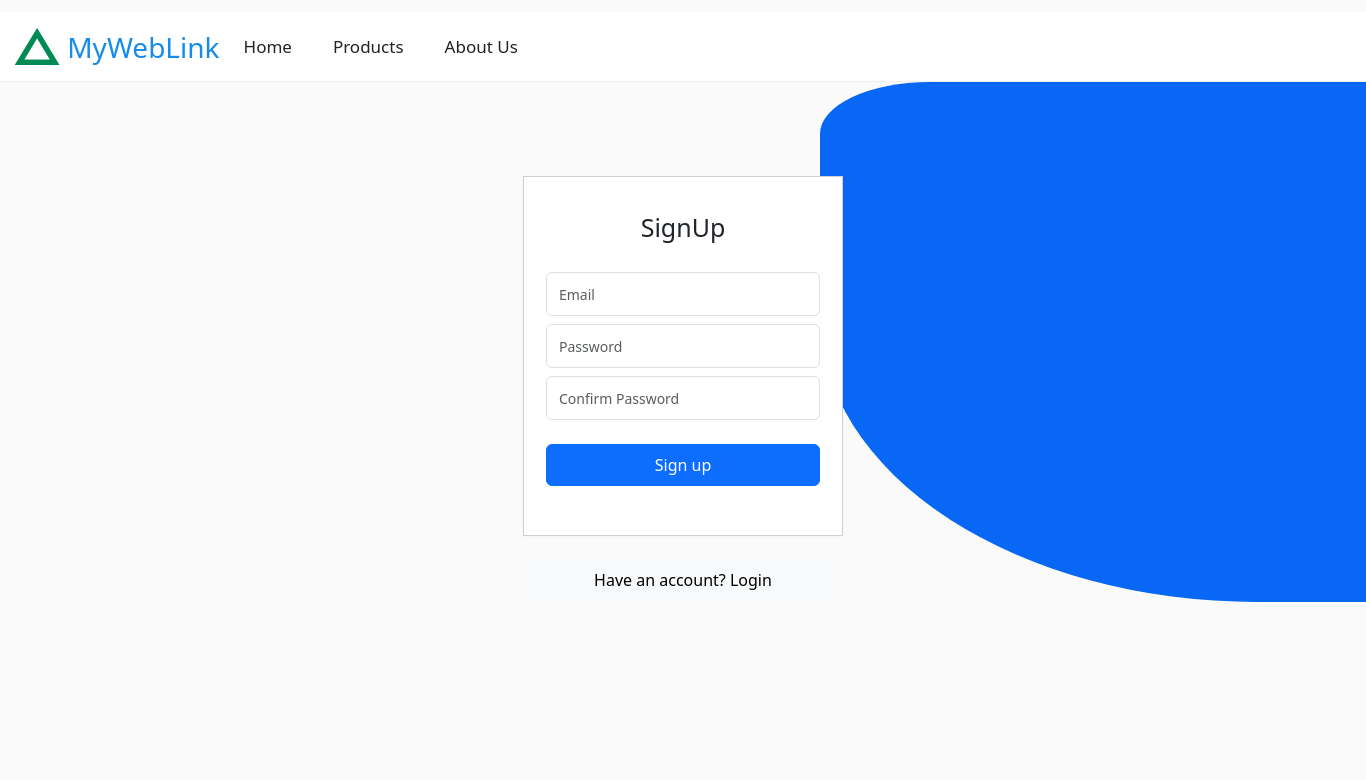
Test case: Signup Component › shows error when passwords do not match
Step 1. Type "test@gmail.com" into the field with placeholder "Email" → x=683, y=294, box [546, 272, 820, 316]
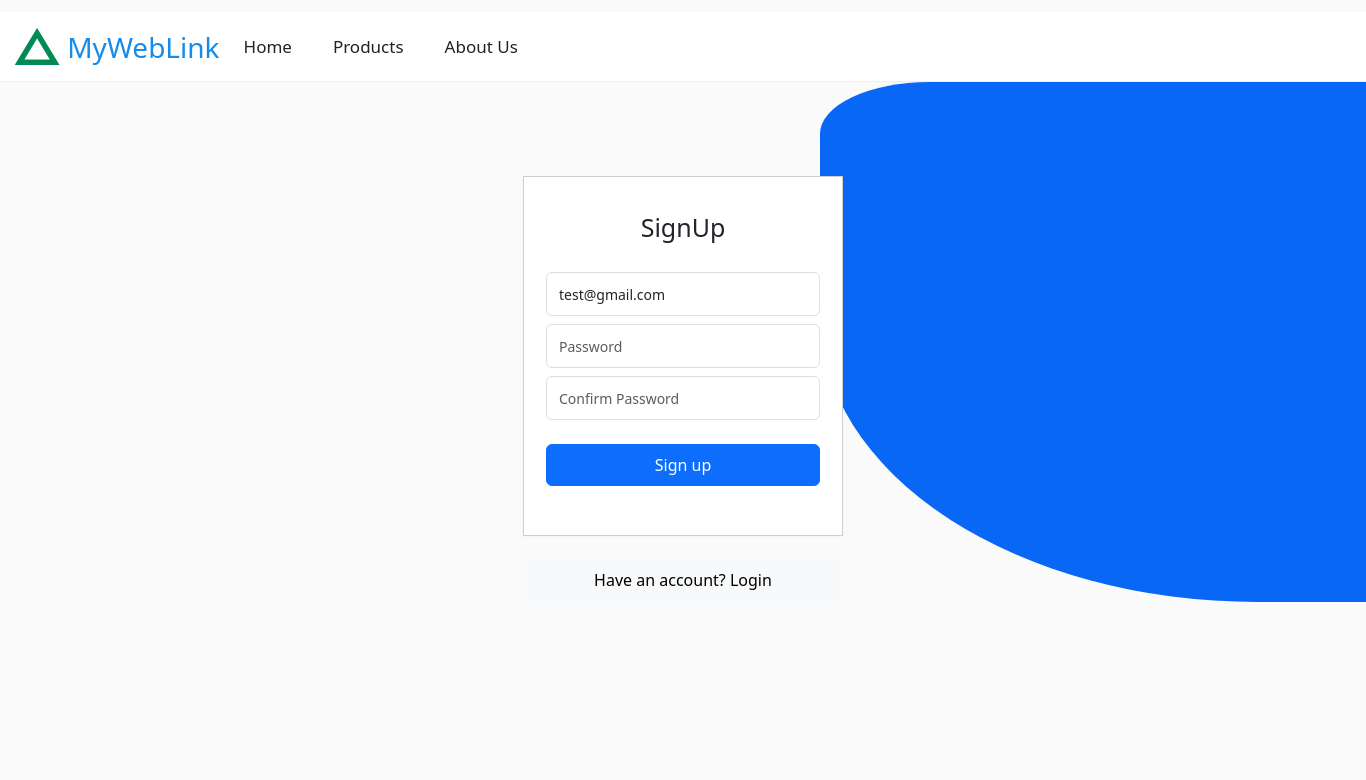
Step 2. Type "password123" into the password field with placeholder "Password" → x=683, y=346, box [546, 324, 820, 368]
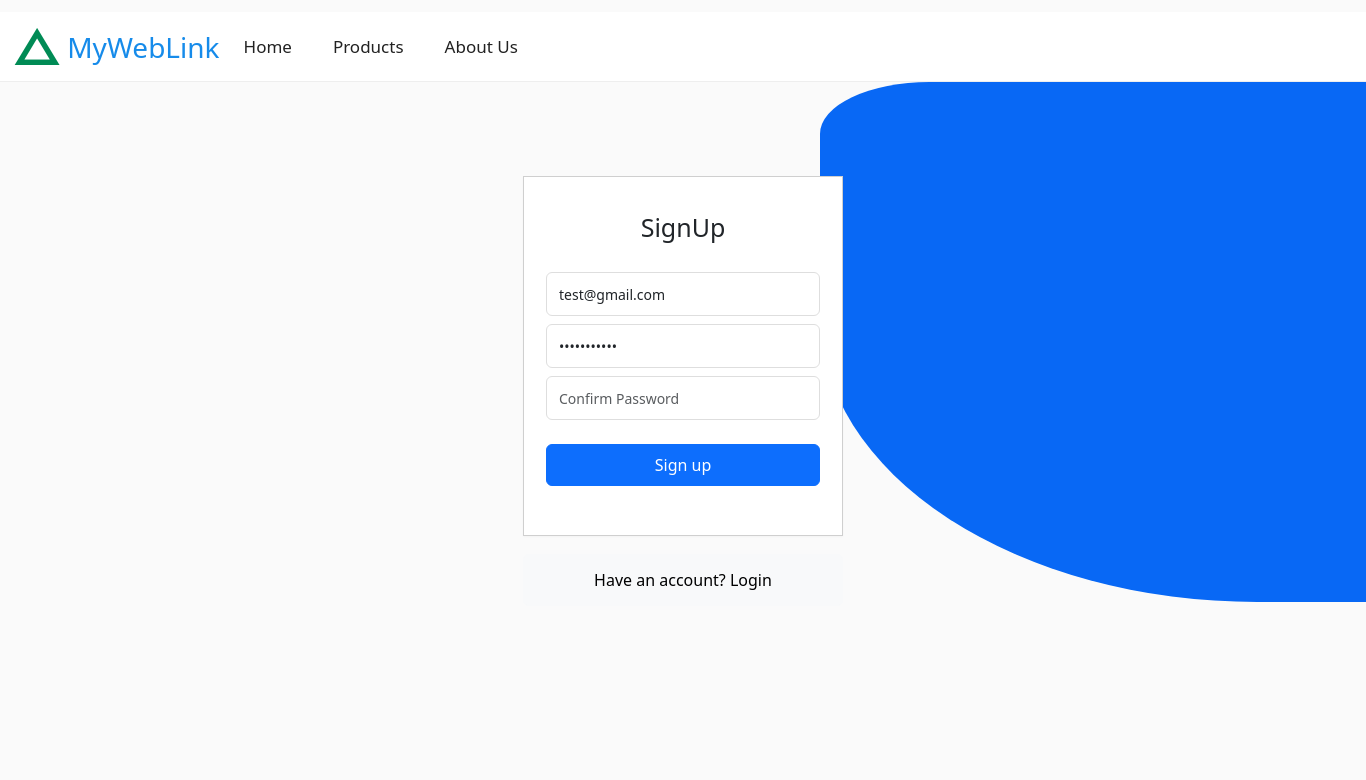
Step 3. Type "password456" into the password field with placeholder "Confirm Password" → x=683, y=398, box [546, 376, 820, 420]
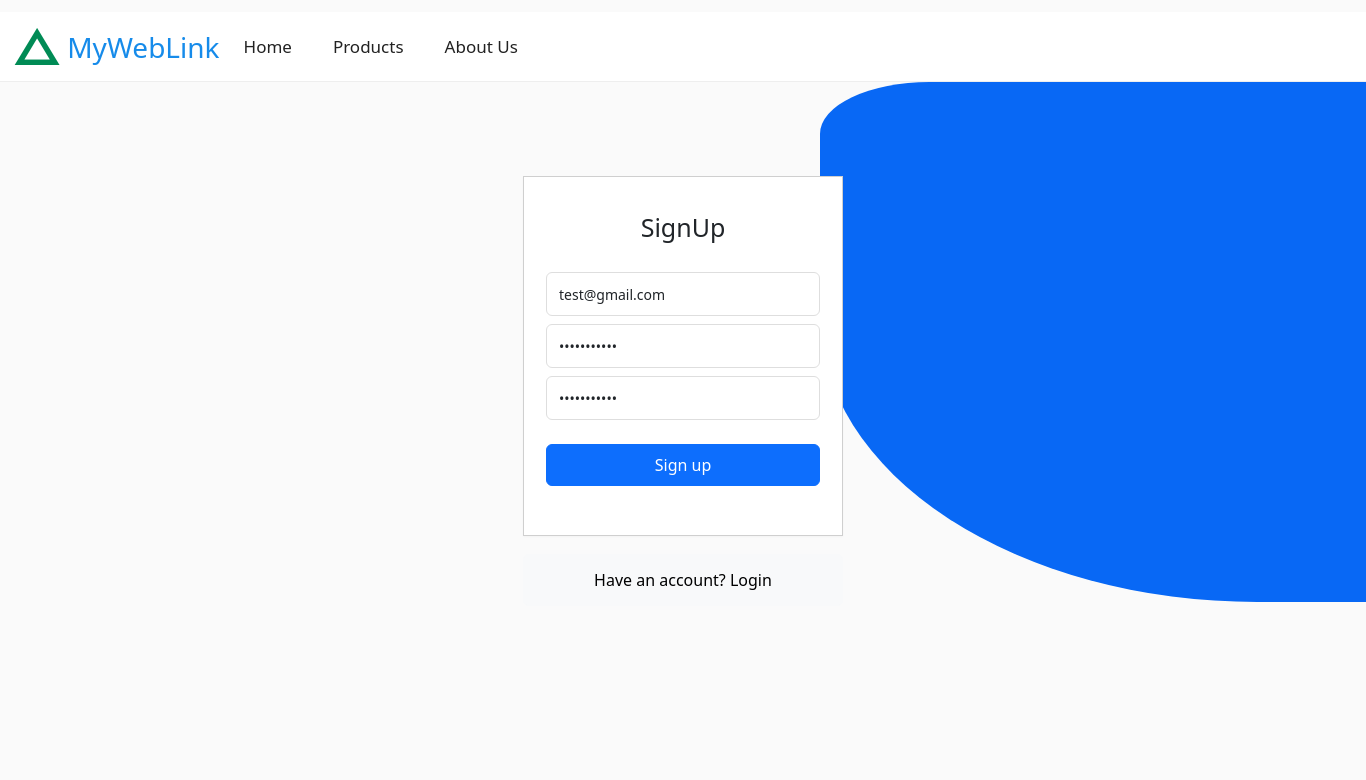
Step 4. Click the button "Sign up" → x=683, y=465, box [546, 444, 820, 486]
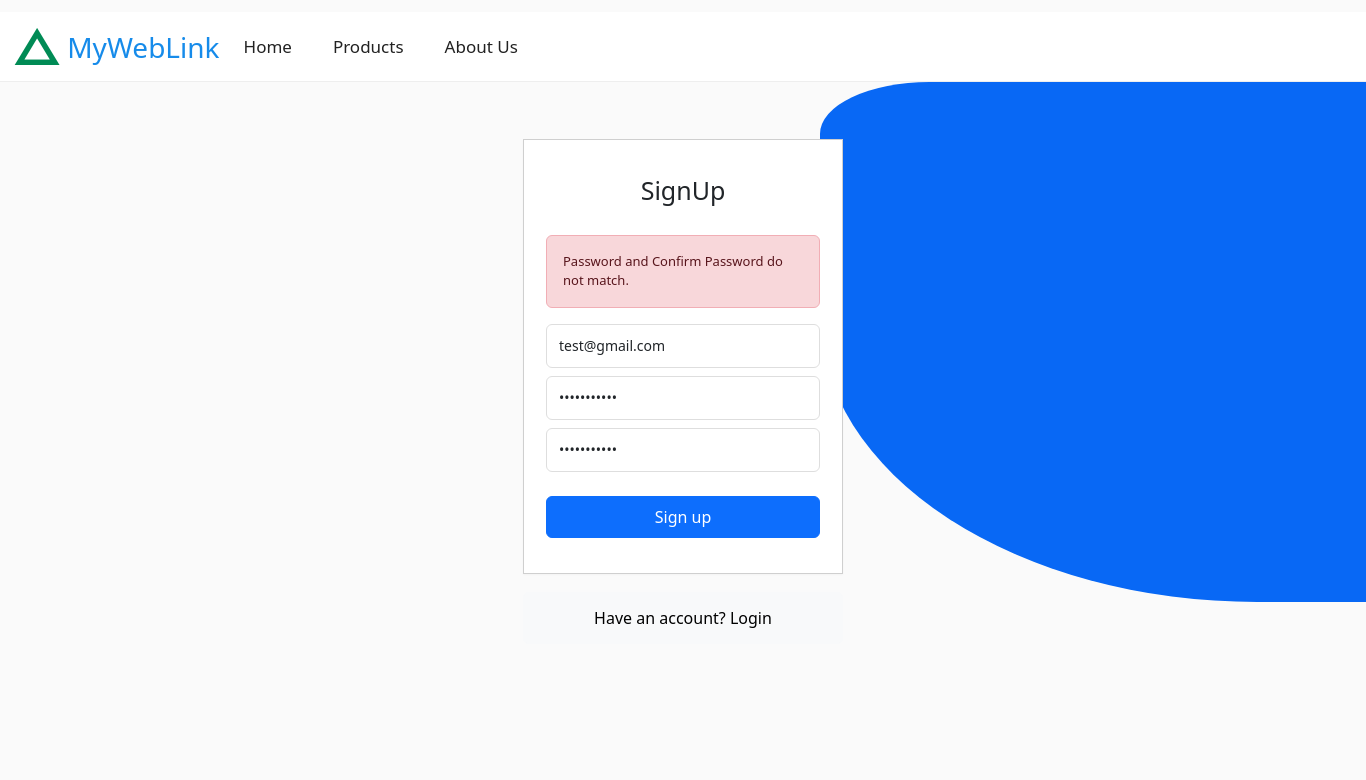
Expected: the text "Password and Confirm Password do not match." is shown, [546, 234, 820, 308]
